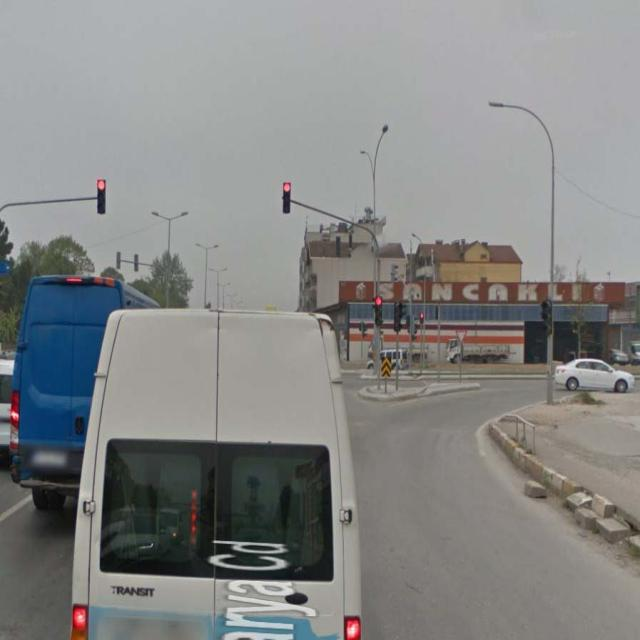kirmizi: (97, 179, 106, 214), (376, 296, 383, 325), (284, 183, 290, 214)
